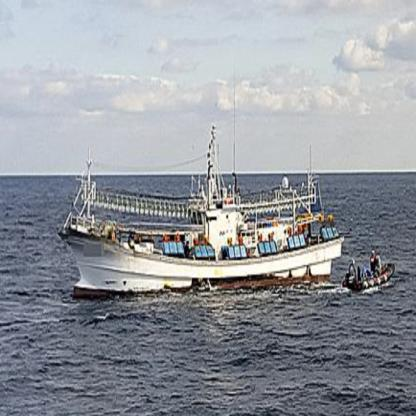fish-b: (53, 119, 348, 313)
